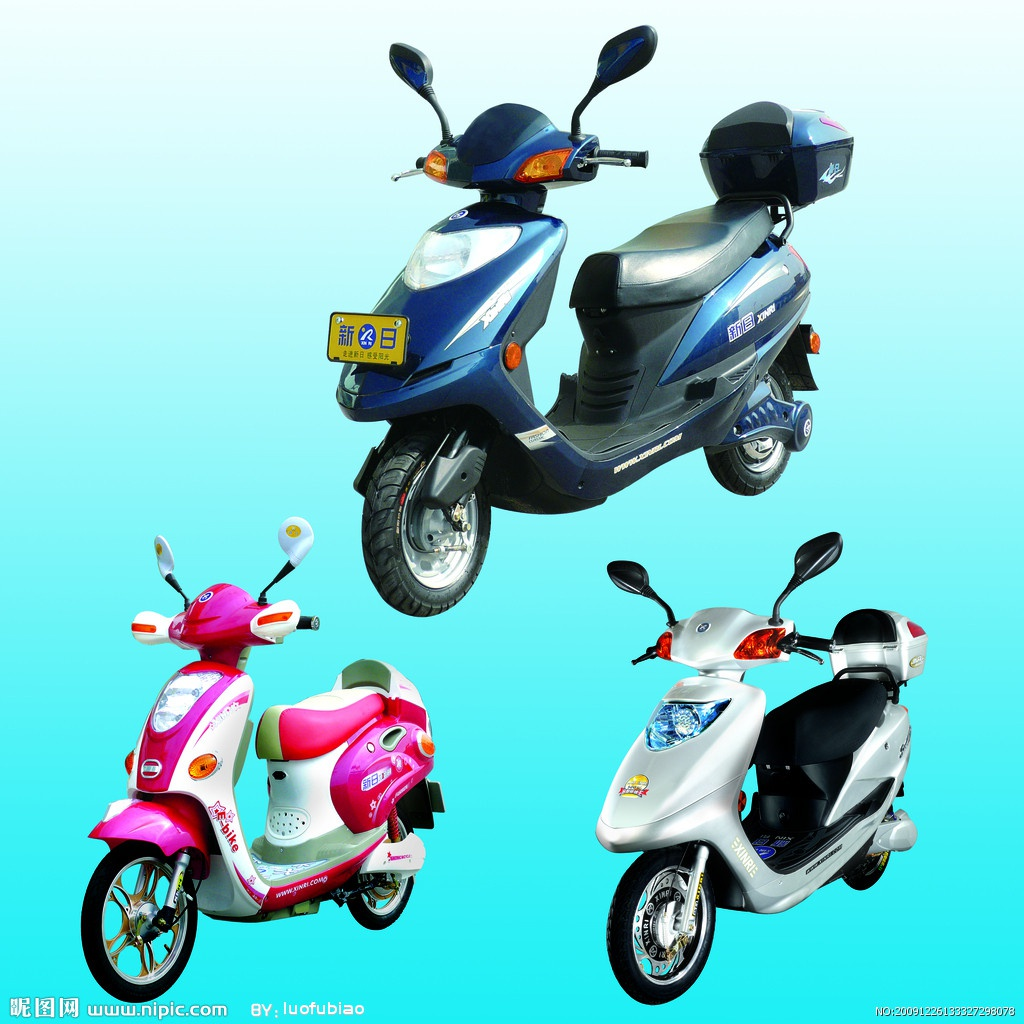non-vehicle: (330, 101, 853, 613), (80, 590, 435, 1006), (594, 596, 930, 1006)
